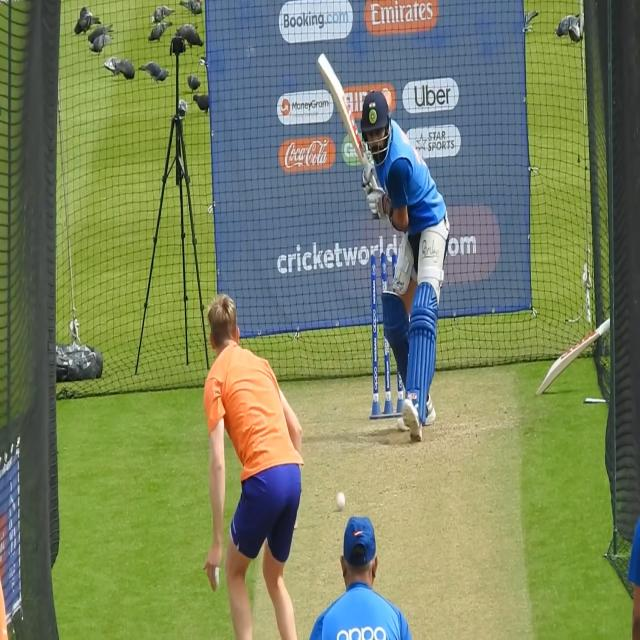ball: (334, 487, 348, 515)
stump: (369, 252, 404, 420)
